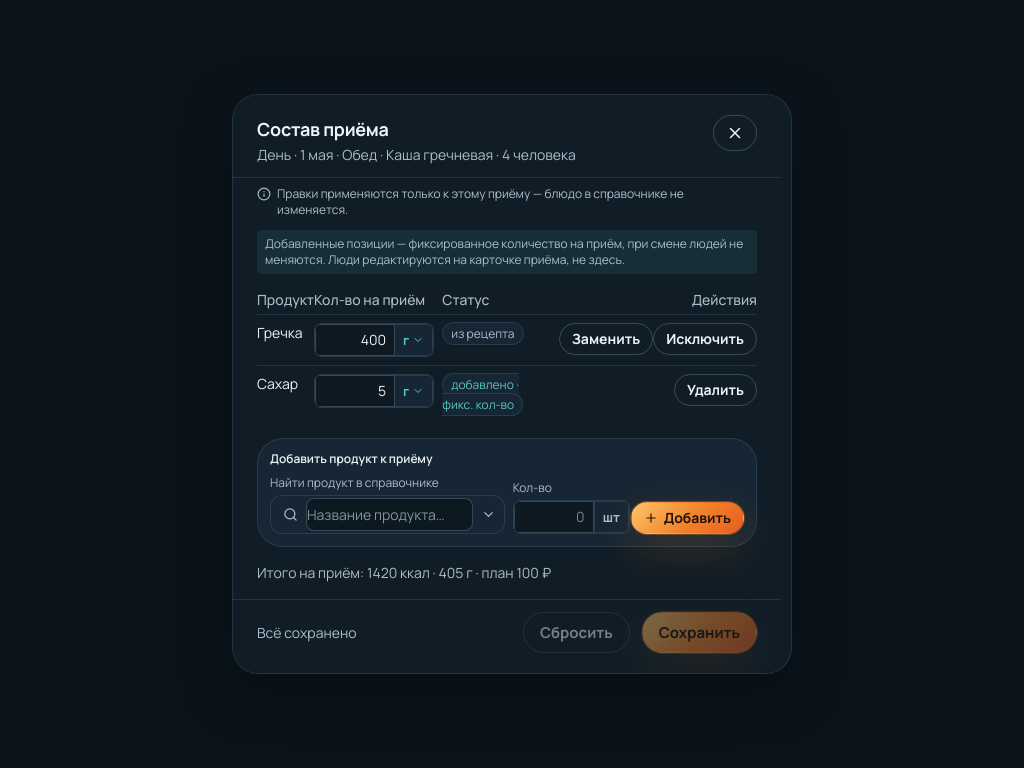
Scenario: MealCompositionModal — transparency-п.3: предупреждение о сбросе чека › отметка «взято» без чека → предупреждение тоже есть
The width and height of the screenshot is (1024, 768).
Expected: the text "Гречка" is shown, [257,323,302,342]
Click the button with aria-label "Исключить: Гречка".
click(705, 339)  # box [653,323,757,355]
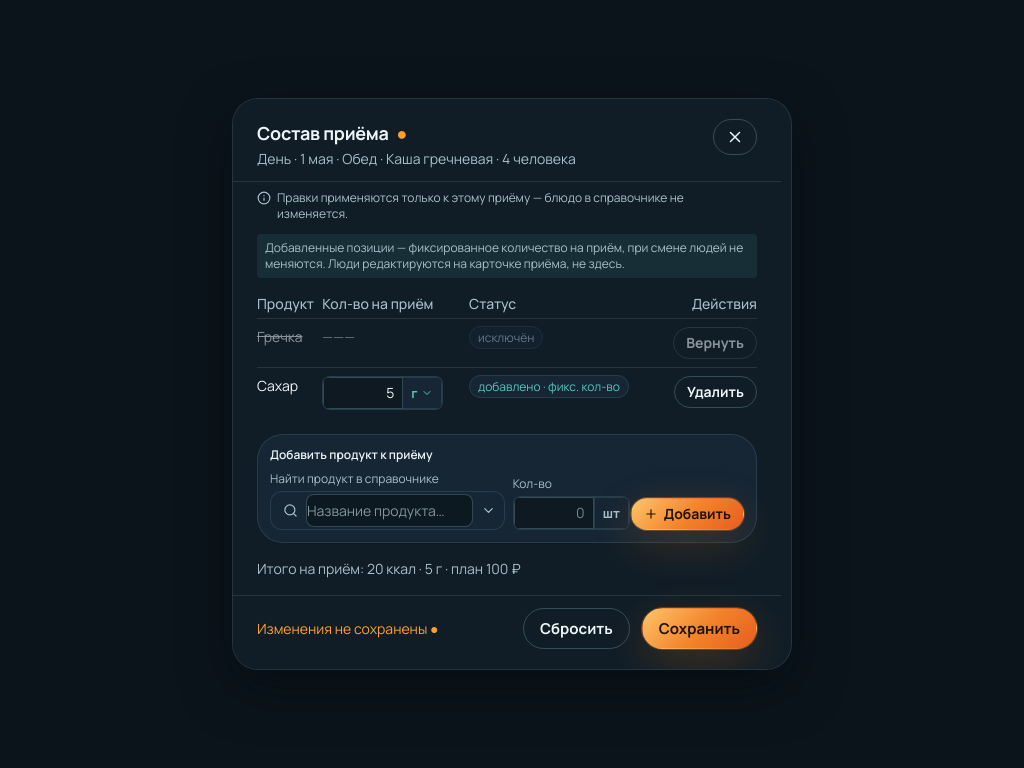
Click the button with aria-label "Сохранить состав".
click(699, 628)  # box [642,608,757,649]
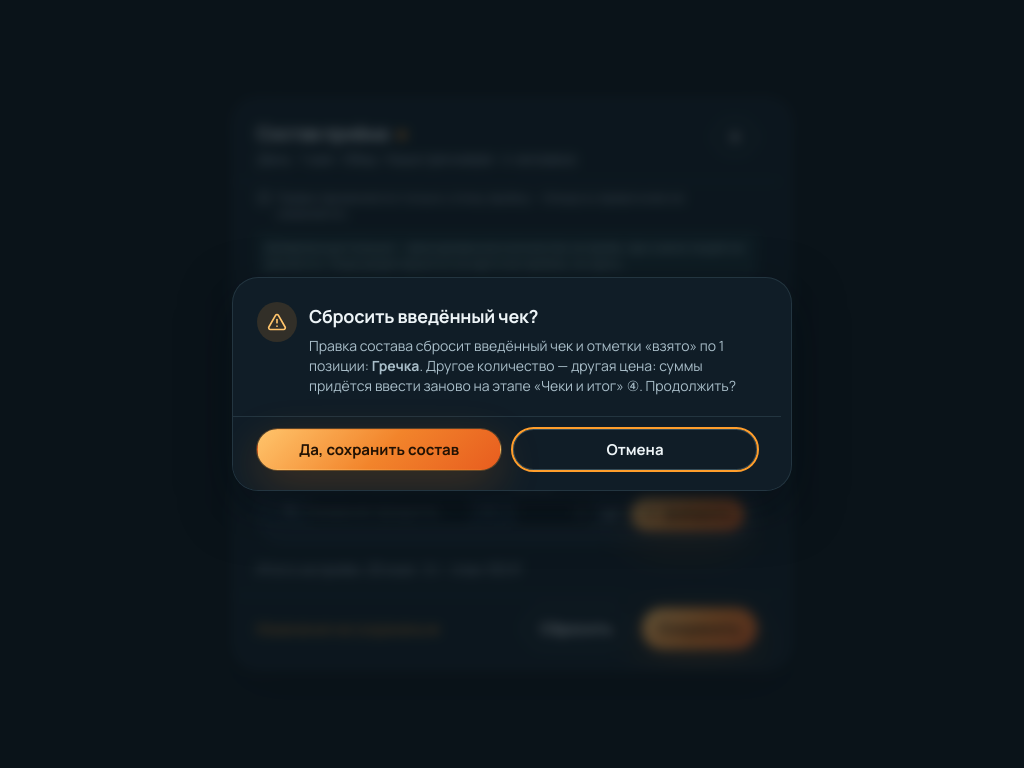
Now the button with test id "confirm-yes" is shown, box [257,429,501,470]
